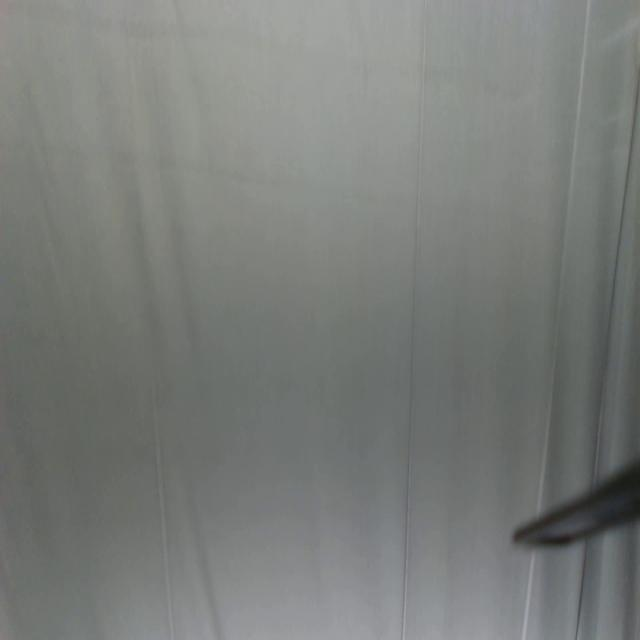crease: (519, 0, 594, 639), (572, 63, 640, 640), (399, 1, 429, 640), (150, 391, 178, 640)
